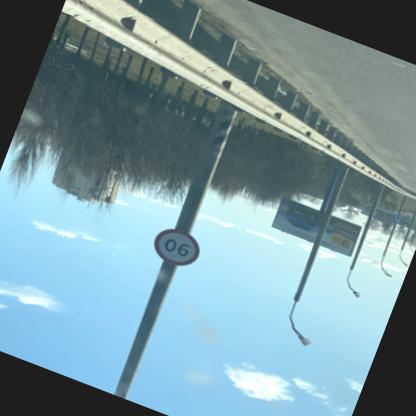speedlimit: (150, 225, 206, 274)
